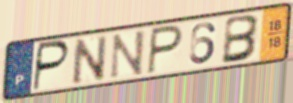6: (189, 21, 218, 66)
B: (220, 13, 262, 66)
N: (108, 28, 147, 81), (71, 33, 109, 87)
P: (31, 39, 72, 93), (145, 23, 185, 77)
